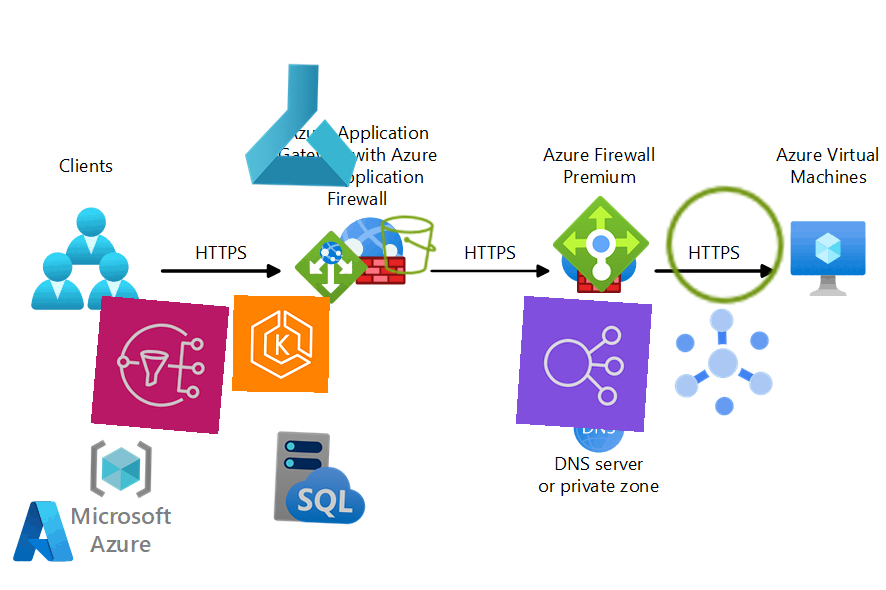aws_amazon_elastic_kubernetes_service: (232, 295, 330, 393)
aws_amazon_simple_notification_service: (90, 295, 230, 435)
aws_elastic_load_balancing: (515, 295, 653, 433)
aws_simple_storage_service_bucket: (374, 211, 442, 279)
aws_simple_storage_service_object: (657, 177, 793, 313)
azure_load_balancers: (552, 195, 650, 293)
azure_machine_learning: (236, 59, 368, 191)
azure_resource_groups: (88, 436, 154, 502)
azure_sql_managed_instance: (270, 427, 372, 529)
gcp_pubsub: (656, 295, 790, 429)
